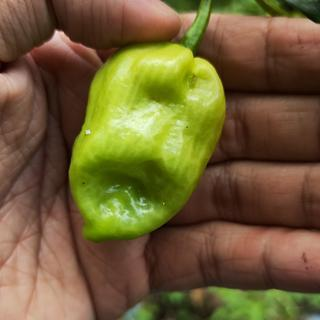Grade-A: (64, 39, 235, 246)
